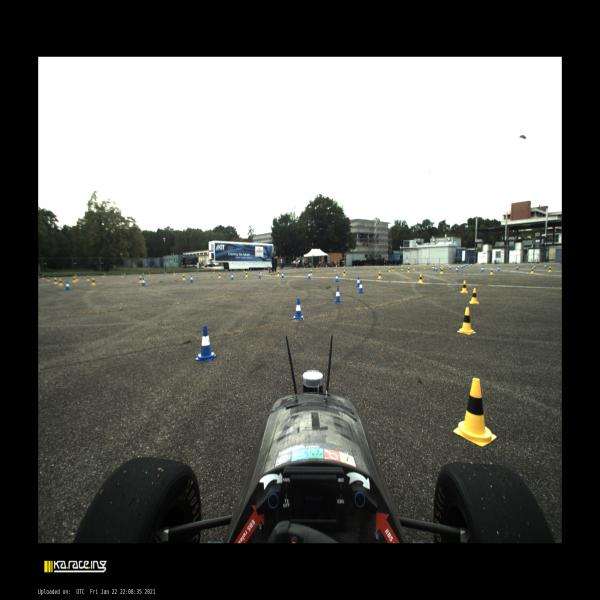blue_cone: (195, 326, 217, 361), (293, 299, 304, 320), (334, 287, 342, 303), (357, 281, 364, 293), (65, 281, 71, 290), (356, 276, 360, 286), (189, 275, 194, 283), (141, 278, 146, 286), (334, 274, 338, 282), (230, 273, 234, 280), (308, 272, 311, 280), (281, 271, 284, 279), (481, 266, 484, 272), (258, 272, 261, 278), (497, 266, 500, 271), (544, 264, 547, 268), (456, 266, 458, 272), (449, 264, 451, 270), (534, 264, 536, 269), (516, 265, 518, 270), (435, 266, 437, 271), (433, 266, 435, 270), (196, 270, 198, 274), (461, 264, 463, 268), (124, 273, 126, 276), (456, 263, 458, 266), (250, 269, 252, 271), (287, 266, 288, 270), (299, 267, 301, 269), (440, 266, 441, 270), (458, 265, 459, 269), (143, 273, 144, 276), (384, 264, 385, 267), (426, 263, 427, 266), (463, 264, 464, 267), (467, 263, 468, 266), (165, 272, 166, 274), (226, 270, 227, 272), (313, 266, 314, 268), (371, 264, 372, 266), (464, 264, 465, 266), (471, 264, 472, 266), (334, 266, 334, 268)
large_orange_cone: (326, 264, 328, 268), (335, 264, 337, 268)
orange_cone: (316, 266, 318, 270)
yellow_cone: (453, 378, 497, 446), (457, 307, 476, 335), (470, 288, 478, 304), (461, 280, 467, 293), (58, 278, 64, 286), (418, 274, 423, 283), (91, 277, 96, 286), (342, 269, 346, 277), (530, 267, 534, 274), (440, 267, 444, 274), (138, 276, 142, 283), (72, 276, 76, 283), (54, 277, 58, 284), (548, 266, 552, 272), (378, 271, 381, 279), (182, 274, 186, 280), (46, 276, 50, 282), (41, 274, 45, 280), (310, 269, 313, 276), (86, 276, 90, 281), (490, 268, 493, 274), (388, 266, 391, 272), (407, 267, 410, 273), (277, 270, 280, 276), (245, 271, 248, 277), (218, 272, 221, 278), (392, 266, 394, 272), (413, 265, 415, 270), (76, 276, 78, 281), (121, 274, 124, 277), (401, 266, 403, 270), (424, 265, 426, 269), (174, 271, 176, 275), (365, 264, 367, 268), (148, 273, 150, 276), (213, 270, 215, 273), (243, 269, 245, 272), (377, 264, 379, 267), (389, 264, 391, 267), (304, 267, 306, 269), (327, 266, 329, 268), (343, 266, 345, 268), (354, 264, 355, 268), (442, 264, 444, 266), (264, 268, 265, 271), (441, 263, 442, 266), (433, 263, 434, 266), (432, 266, 433, 268), (438, 263, 438, 266)
